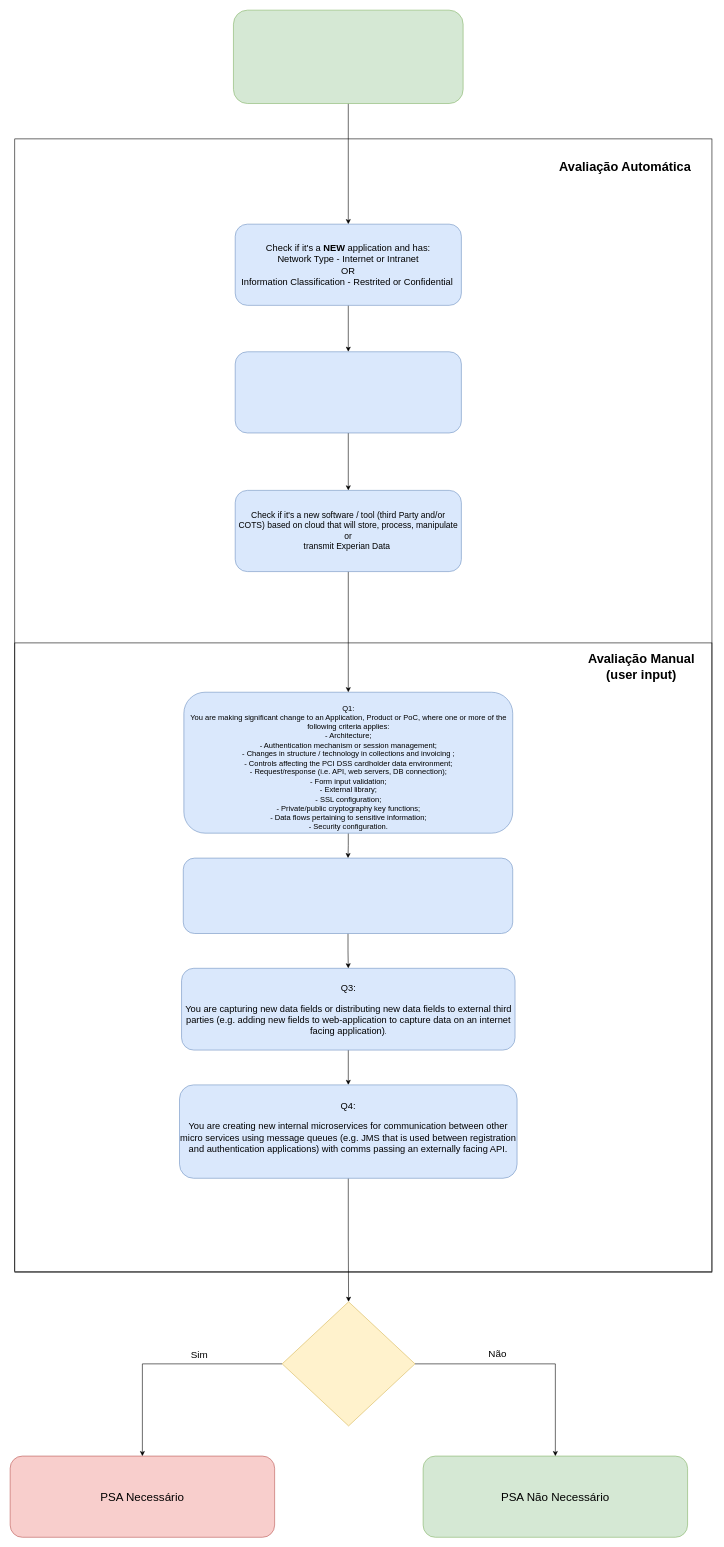
This 724x1547 diagram has some shape labels left out. The centre of each missing label's shape, as x and y in pixels:
"Check if application is hosted on premise but is moving to Cloud." goes at point (348, 392).
"Nova request para produção" goes at point (348, 57).
"Q2: You are creating, changing or invoking new API methods/calls." goes at point (348, 896).
"Resposta SIM para um ou mais itens?" goes at point (348, 1363).
